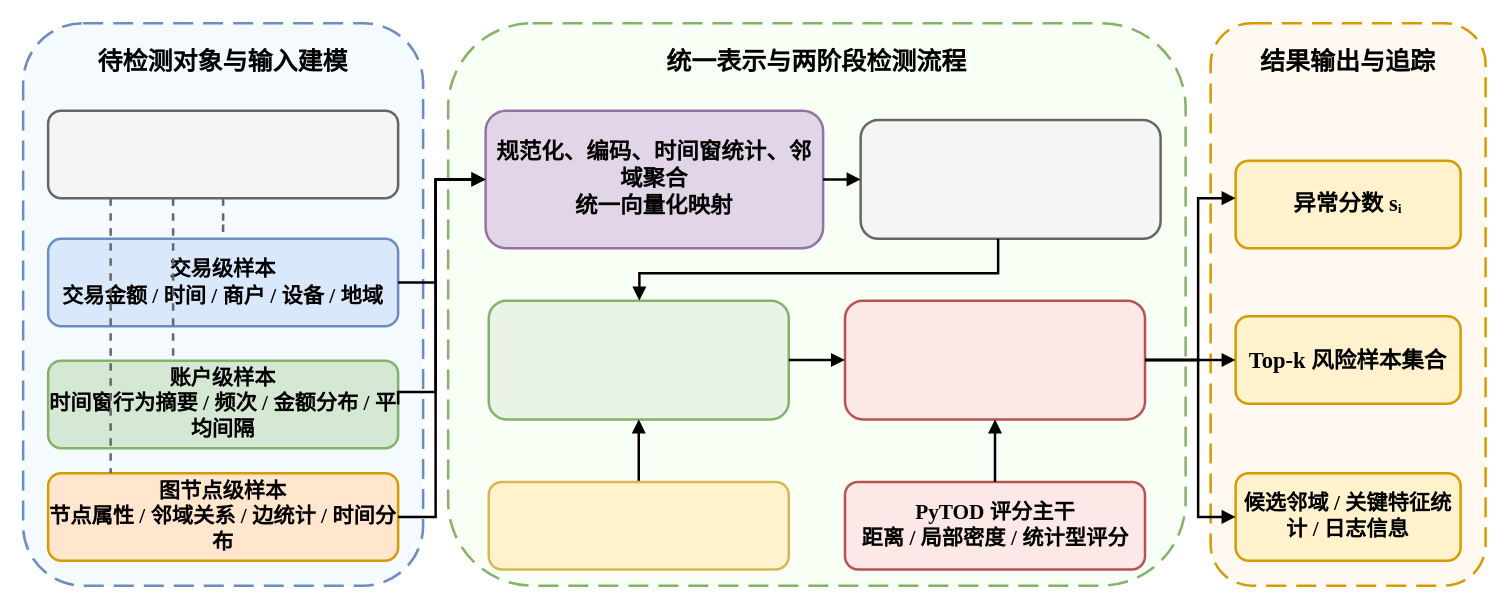
Image size: 1508x608. Some labels were removed from this diagram. Here are the shapes that lost their labels. From the top down, the centre of each, then its label:
At (x=222, y=154): "金融行为数据集 X = {x₁, x₂, …, xₙ}".
At (x=1010, y=178): "统一向量表示 vᵢ ∈ ℝᵈ".
At (x=638, y=359): "候选召回 Cᵢ = ℛ(vᵢ, ℐ)".
At (x=994, y=359): "异常评分 sᵢ = ℱ(vᵢ, Cᵢ)".
At (x=638, y=525): "候选索引 ℐ 大规模样本索引 / ANN 检索结构".
